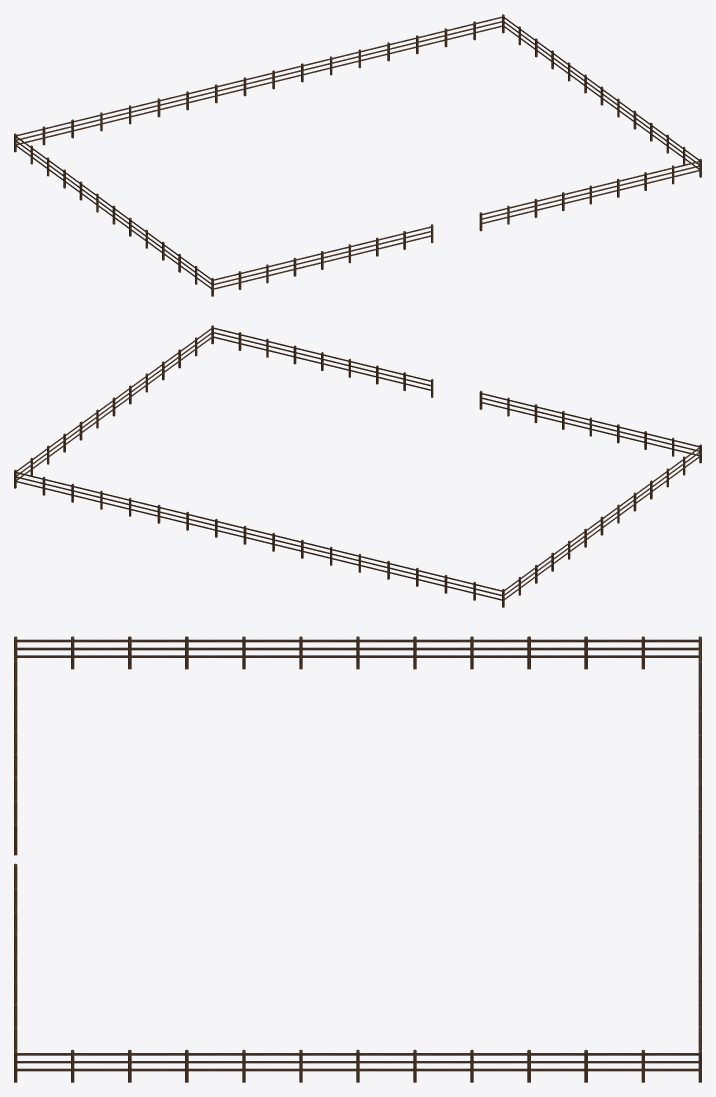
Rendered from fence.glb.
The picture shows the model from 3 angles, top to bottom: view 1: azimuth 30°, elevation 25°; view 2: azimuth 150°, elevation 25°; view 3: azimuth 270°, elevation 25°; orthographic projection. The views are drawn at different scales.
Visible parts, largest first — view 1: fence_post; view 2: fence_post; view 3: fence_post.
Boxes of the visible parts, left/top/right/bottom form: fence_post: left=14, top=14, right=701, bottom=296; fence_post: left=14, top=325, right=701, bottom=607; fence_post: left=14, top=636, right=701, bottom=1082.
Size of the model in its own units: 40.14 by 1.47 by 28.14.
Materials: 1 (1 with a texture image).
